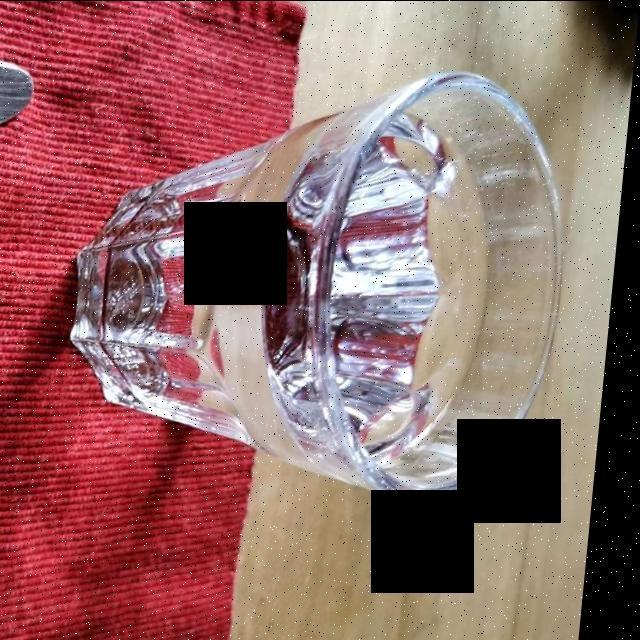water: (91, 114, 499, 466)
